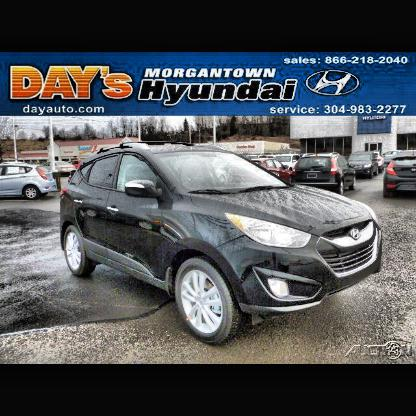Hyundai Tucson SUV 2012: (60, 130, 385, 349)
